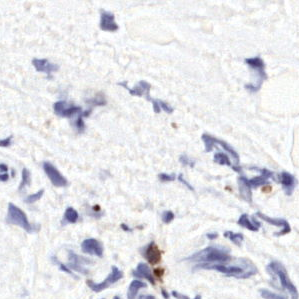Lymphocyte: (144, 240, 164, 265)
